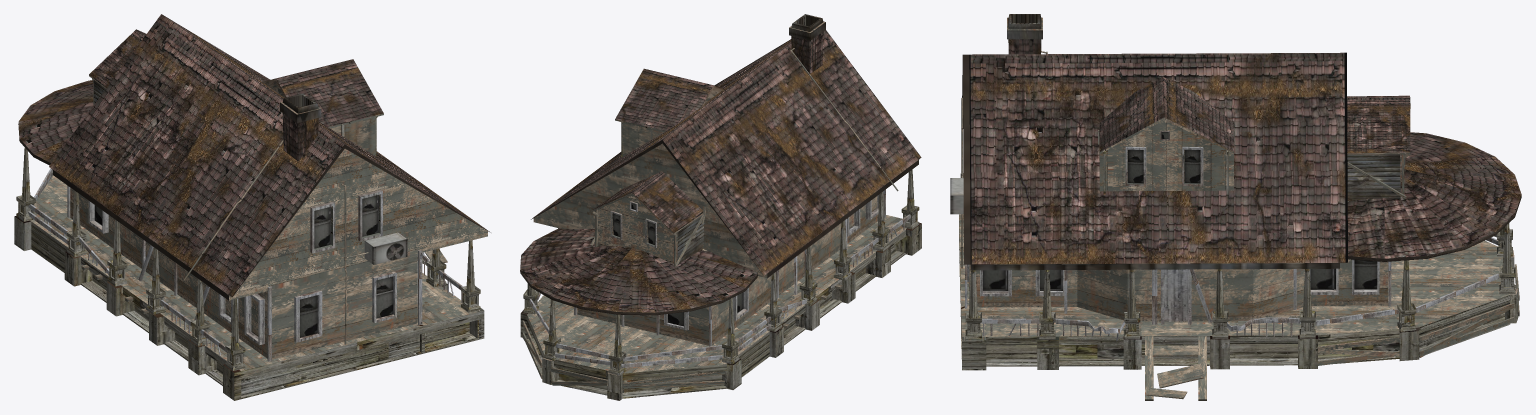
The model's file is house.glb.
3 views of the same model, side by side, from view 1: azimuth 30°, elevation 25°; view 2: azimuth 150°, elevation 25°; view 3: azimuth 270°, elevation 25° (orthographic). The views are drawn at different scales.
Parts seen in each view (by area): view 1: pCube3; view 2: pCube3; view 3: pCube3.
Boxes of the visible parts, left/top/right/bottom form: pCube3: left=14, top=14, right=490, bottom=400; pCube3: left=520, top=14, right=921, bottom=400; pCube3: left=950, top=14, right=1521, bottom=400.
Size of the model in its own units: 526 by 408 by 759.
6 materials, 6 textured.
